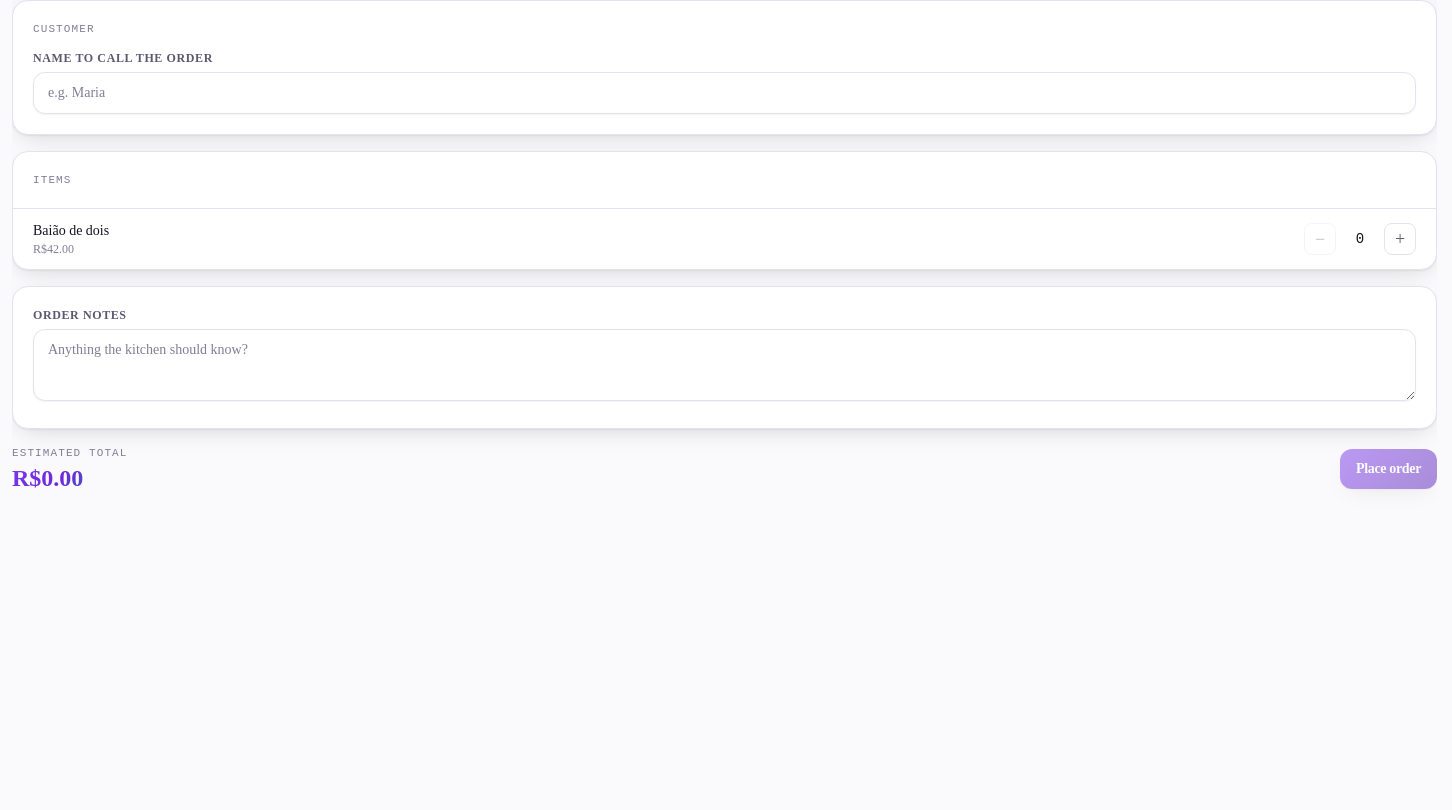
Test: CreateOrderForm — TOTEM › falls back to the generic message for an untagged 422
Click the button named "Increase quantity" at {"x": 1400, "y": 239}, box top-left (1384, 223), bottom-right (1416, 255)
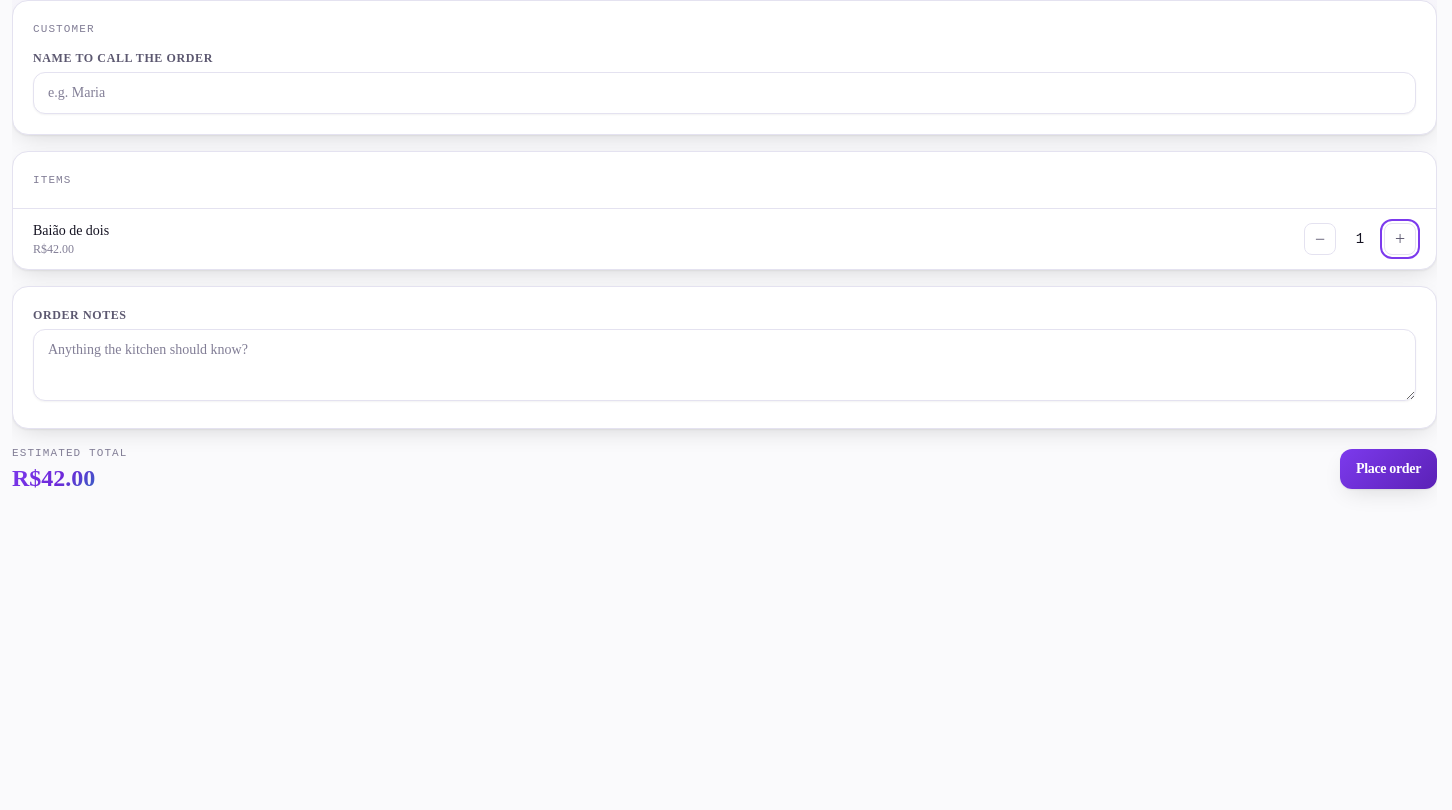
Type "Maria" into the field labelled "Name to call the order" at {"x": 724, "y": 92}, box top-left (33, 72), bottom-right (1416, 114)
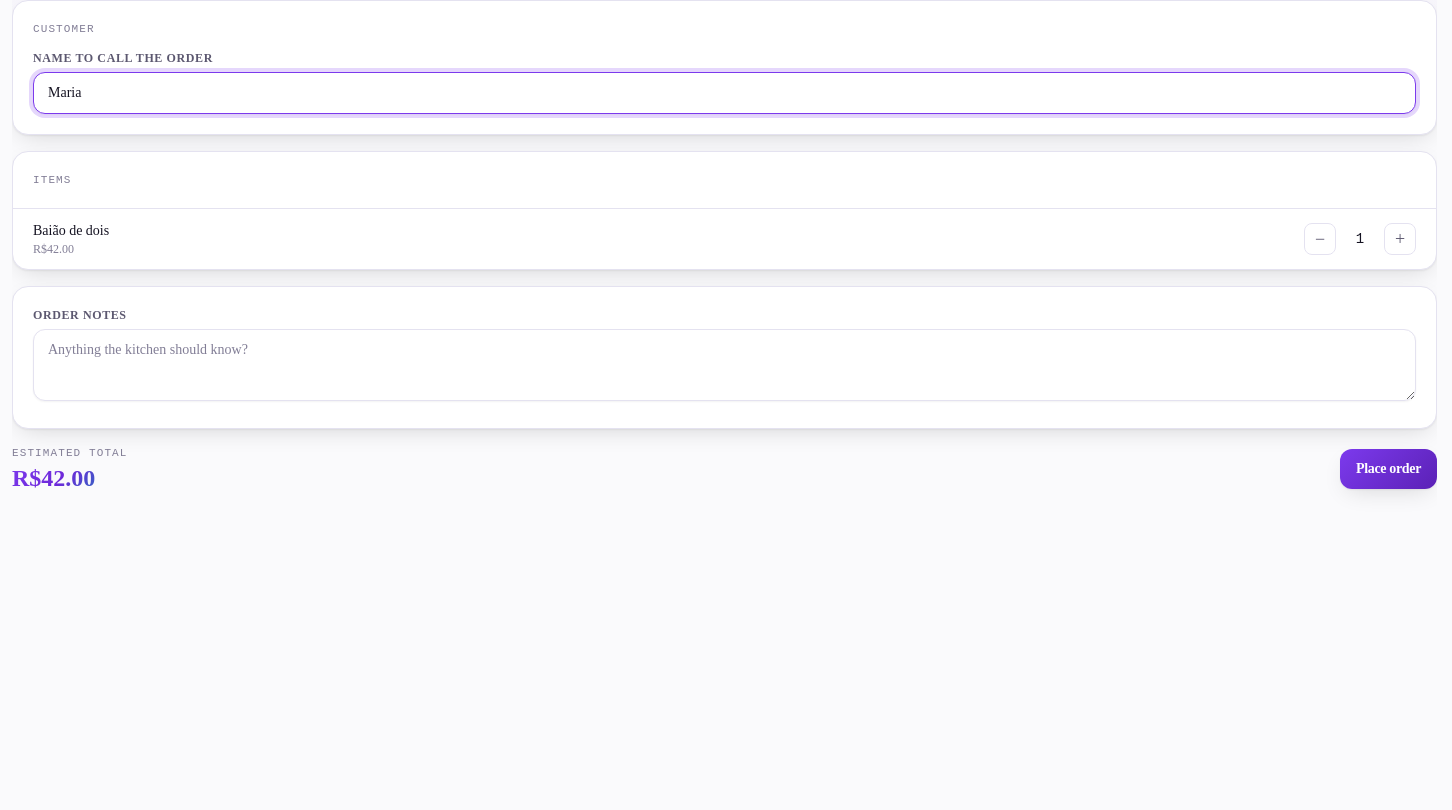
Click the button "Place order" at {"x": 1388, "y": 469}, box top-left (1340, 449), bottom-right (1437, 489)
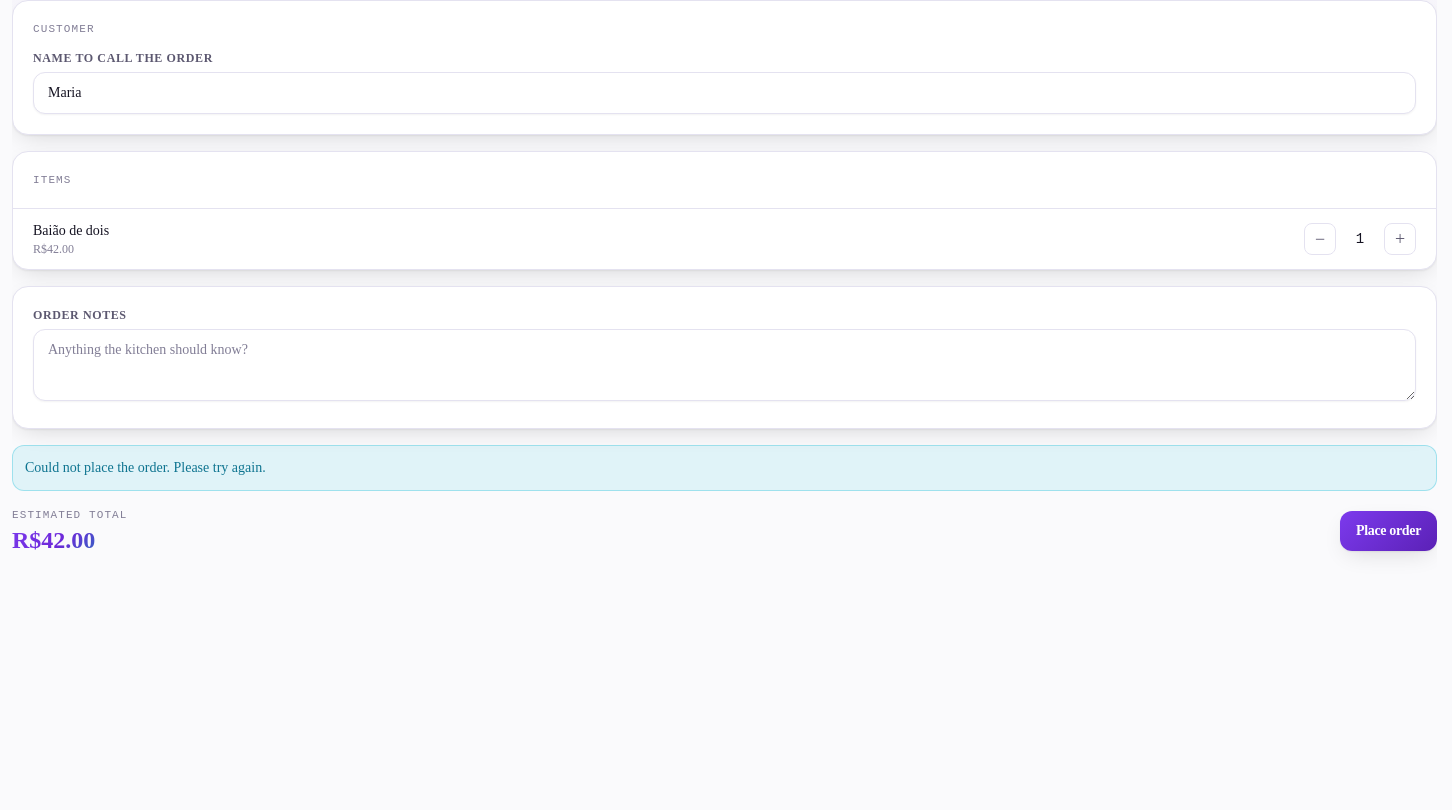
Expected: the text "Could not place the order. Please try again." is shown, top-left (12, 445), bottom-right (1437, 491)
